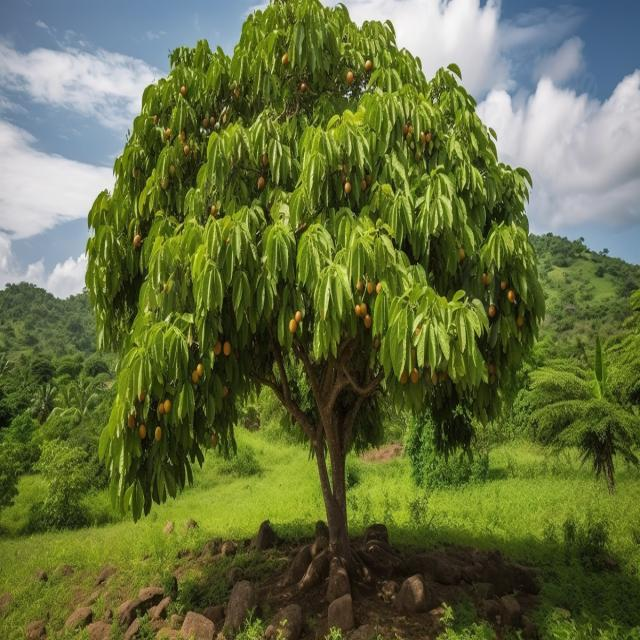Mango-Tree: (69, 5, 548, 513)
